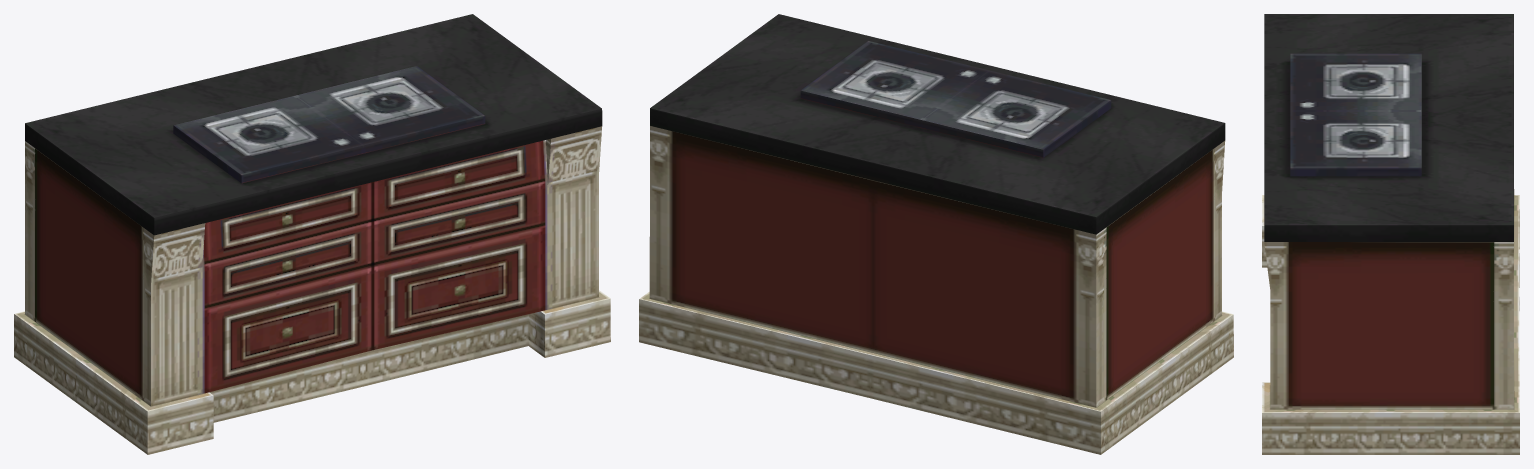
The model's file is furni_0201120_02.FBX.
The picture shows the model from 3 angles, left to right: view 1: azimuth 30°, elevation 25°; view 2: azimuth 150°, elevation 25°; view 3: azimuth 270°, elevation 25°; orthographic projection. The views are drawn at different scales.
Visible parts, largest first — view 1: furni_0201120_02; view 2: furni_0201120_02; view 3: furni_0201120_02.
Part boxes in pixels (<box>): furni_0201120_02: <box>14,14,610,454</box>; furni_0201120_02: <box>639,14,1233,454</box>; furni_0201120_02: <box>1262,14,1519,454</box>.
Size of the model in its own units: 165 by 82.8 by 82.62.
1 material, 1 textured.
